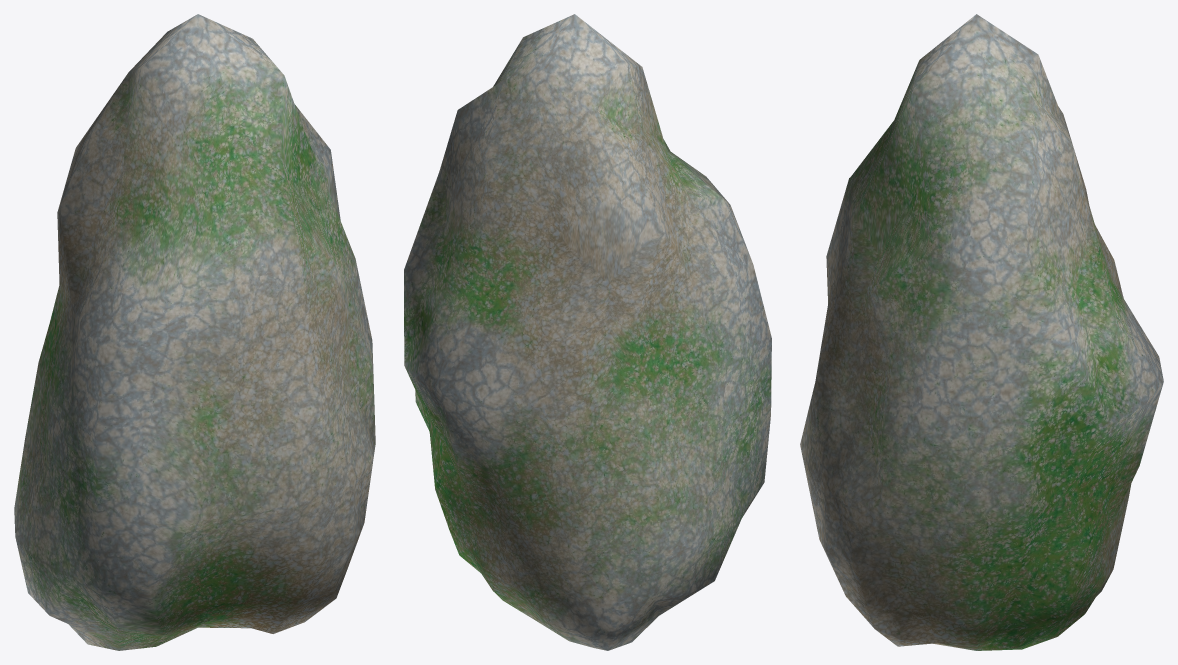
File: boulder.obj
3 renders of one model, left to right at view 1: azimuth 30°, elevation 25°; view 2: azimuth 150°, elevation 25°; view 3: azimuth 270°, elevation 25°, orthographic. The views are drawn at different scales.
Visible parts, largest first — view 1: Stone_F_3_LOD1; view 2: Stone_F_3_LOD1; view 3: Stone_F_3_LOD1.
Part boxes in pixels (box(x1,y1,x2,y2)): Stone_F_3_LOD1: box(14, 14, 375, 650); Stone_F_3_LOD1: box(404, 14, 771, 650); Stone_F_3_LOD1: box(800, 14, 1163, 650).
Size of the model in its own units: 10.18 by 19.8 by 10.11.
1 material, 1 textured.
